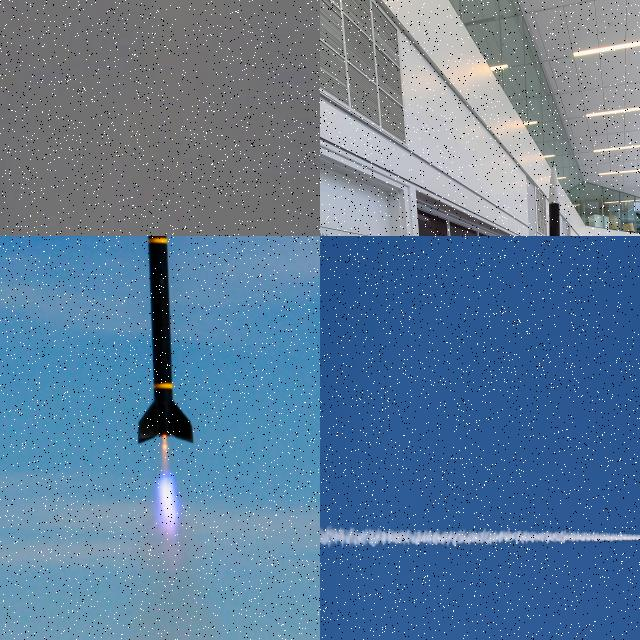Rocket: (135, 236, 195, 447), (549, 161, 560, 236)
